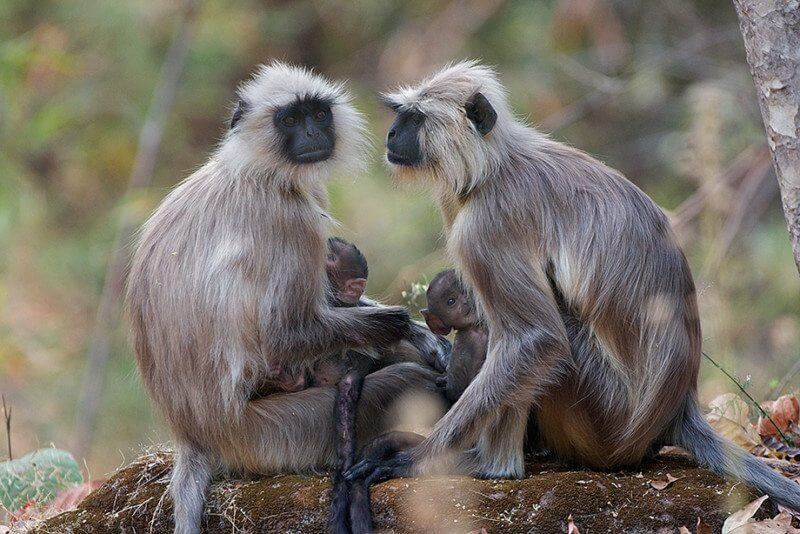monkey: (373, 51, 800, 508), (123, 53, 427, 534)
